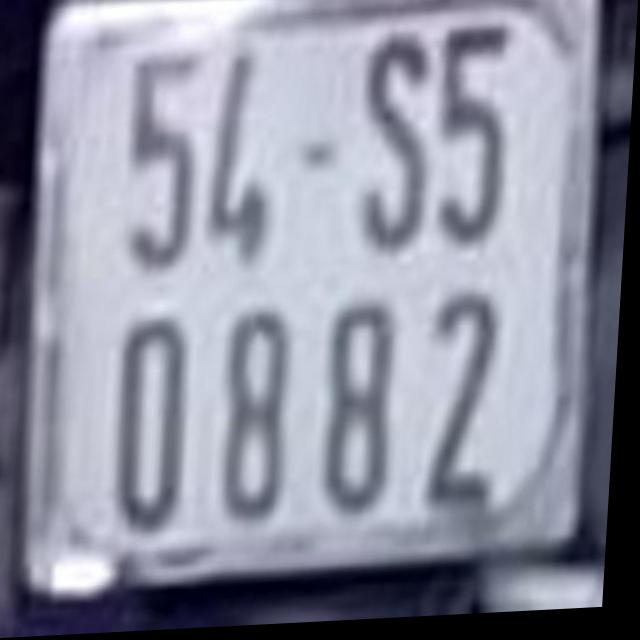0: (118, 316, 196, 528)
2: (428, 300, 511, 510)
4: (208, 57, 280, 264)
5: (435, 28, 519, 248), (127, 49, 202, 266)
8: (221, 307, 301, 520), (328, 302, 405, 512)
S: (354, 30, 438, 259)
